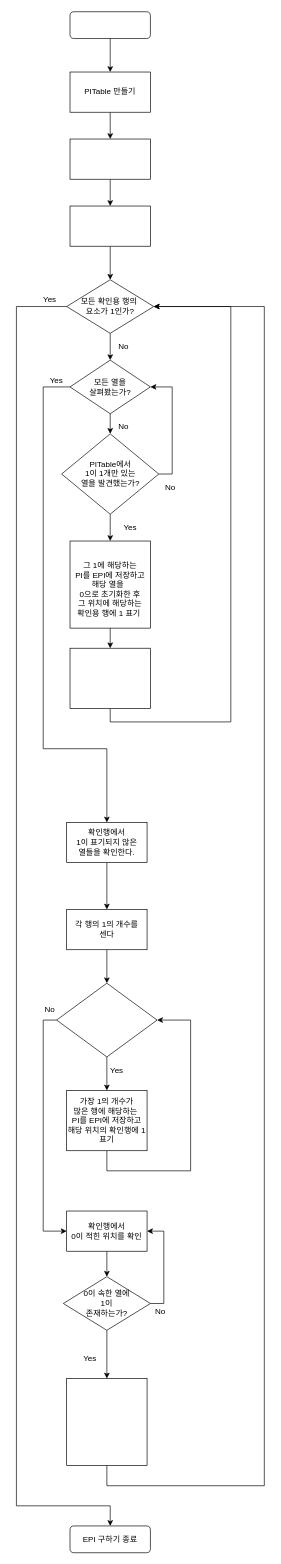
This 281x1564 diagram has some shape labels left out. The box of each missing label's shape, as (x1, y1, x2, y2) in pixels:
1이 1개만 있는 열이 없었는가?: (56, 983, 157, 1057)
EPI 구하기 시작: (69, 11, 150, 39)
PITable 모두 0으로 초기화: (69, 138, 150, 179)
TM과 PI를 비교해서 테이블에 표기 (O : 0, X : 1): (69, 205, 150, 246)
그 1이 적혀있는 행을 확인해서 다른 1이 적혀있을 경우 그 위치에 해당하는 확인용 행에 1 표기: (69, 648, 150, 709)
열에서 1이 적힌 위치의 행들을 확인행에 표기했을때 확인행의 요소를 가장 많이 0에서 1로 바꾸는 행에 해당하는 PI를 EPI에 저장: (66, 1378, 147, 1466)
